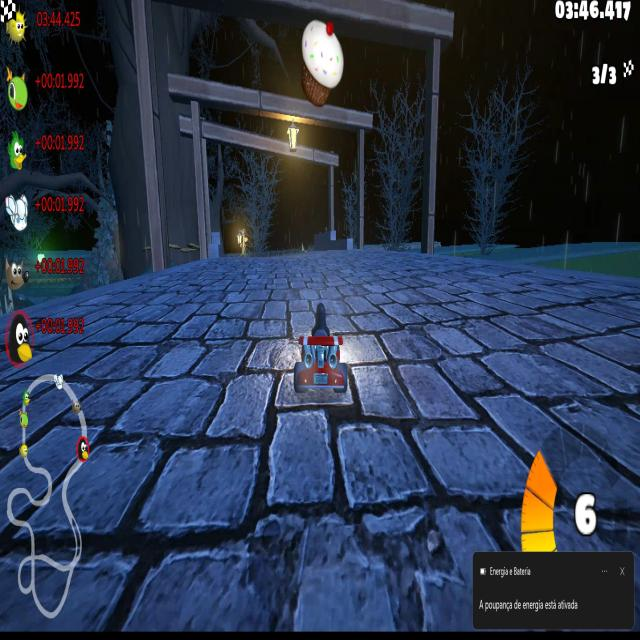player_kart: (292, 303, 348, 407)
track: (5, 298, 288, 633), (352, 295, 640, 552), (288, 405, 356, 634), (225, 246, 449, 292), (358, 555, 472, 632), (448, 247, 590, 286), (160, 266, 223, 300), (136, 273, 162, 300)
